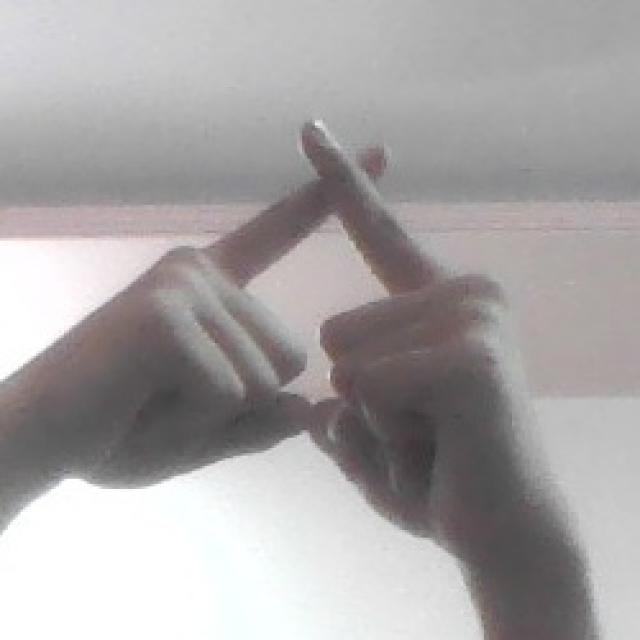Alphabet-X: (51, 108, 536, 569)
